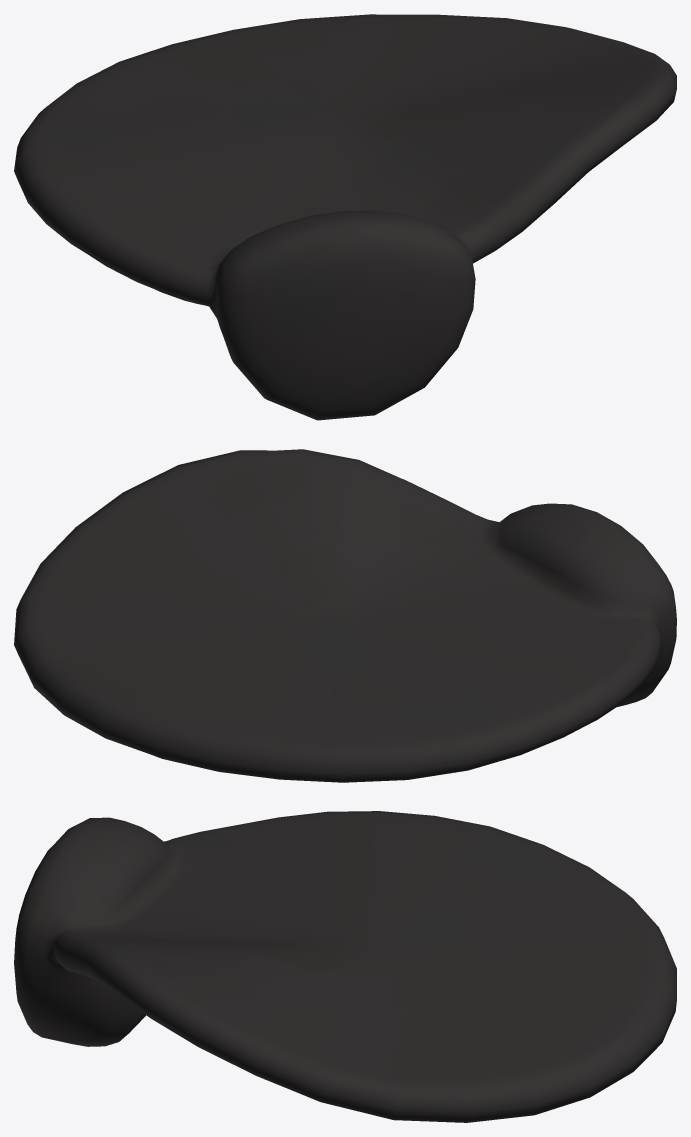
File: Eyepatch1.glb
3 renders of one model, top to bottom at view 1: azimuth 30°, elevation 25°; view 2: azimuth 150°, elevation 25°; view 3: azimuth 270°, elevation 25°, orthographic. The views are drawn at different scales.
Visible parts, largest first — view 1: Eyepatch1; view 2: Eyepatch1; view 3: Eyepatch1.
Boxes of the visible parts, x1,y1,x2,y2 form: Eyepatch1: (14, 14, 676, 420); Eyepatch1: (14, 449, 676, 782); Eyepatch1: (14, 811, 676, 1122).
Size of the model in its own units: 0.0129 by 0.00436 by 0.0121.
1 material, 1 textured.
